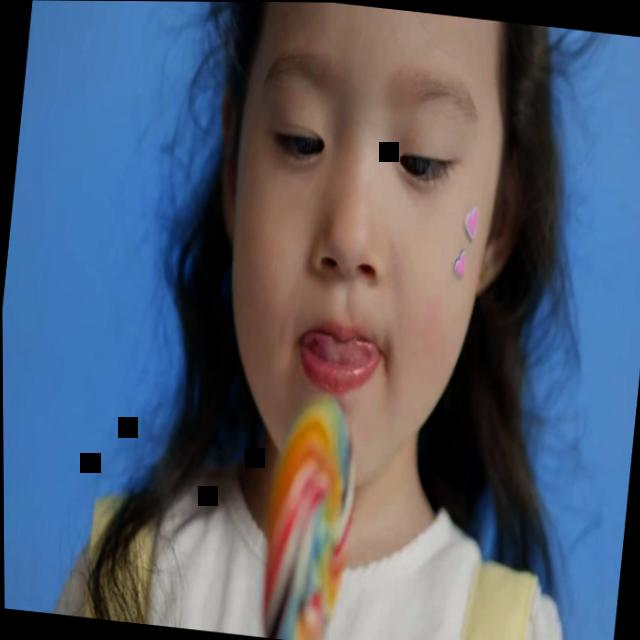NO-Mask: (204, 1, 520, 506)
